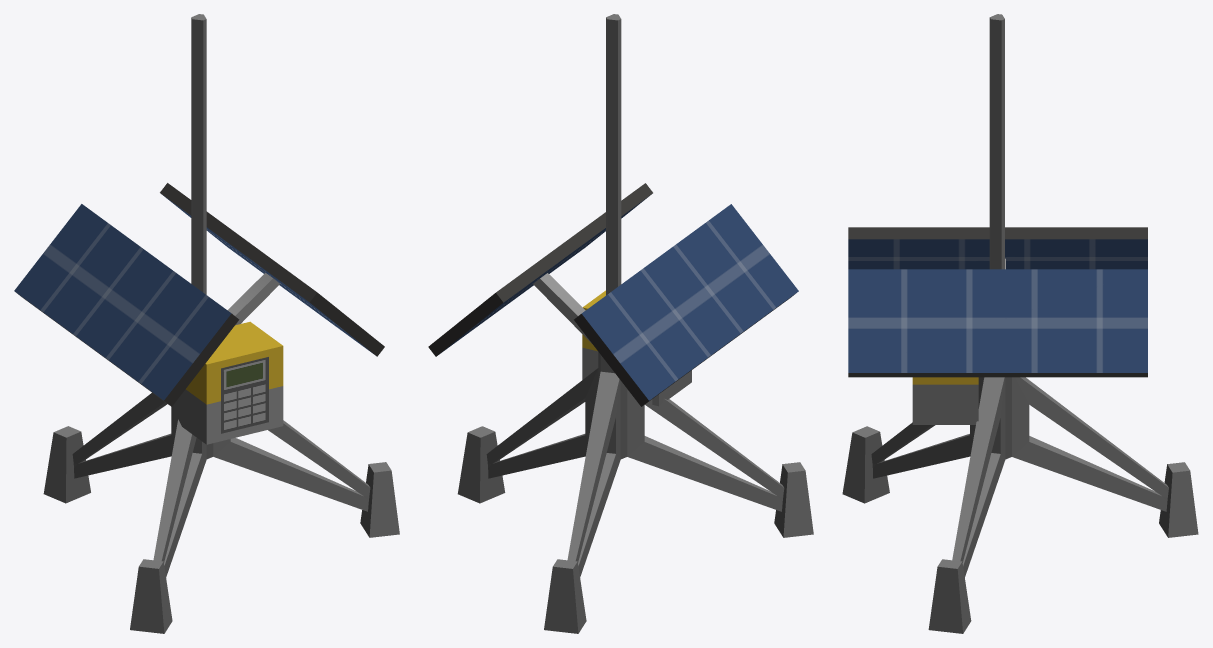
File: SM_Prop_Beacon_01.fbx
The picture shows the model from 3 angles, left to right: view 1: azimuth 30°, elevation 25°; view 2: azimuth 150°, elevation 25°; view 3: azimuth 270°, elevation 25°; orthographic projection.
Visible parts, largest first — view 1: SM_Prop_Beacon_01; view 2: SM_Prop_Beacon_01; view 3: SM_Prop_Beacon_01.
Part boxes in pixels (x1=…): SM_Prop_Beacon_01: x1=14, y1=14, x2=399, y2=633; SM_Prop_Beacon_01: x1=428, y1=14, x2=813, y2=633; SM_Prop_Beacon_01: x1=842, y1=14, x2=1198, y2=633.
Bounding box in the file's own units: 4.04 × 6.66 × 4.04.
